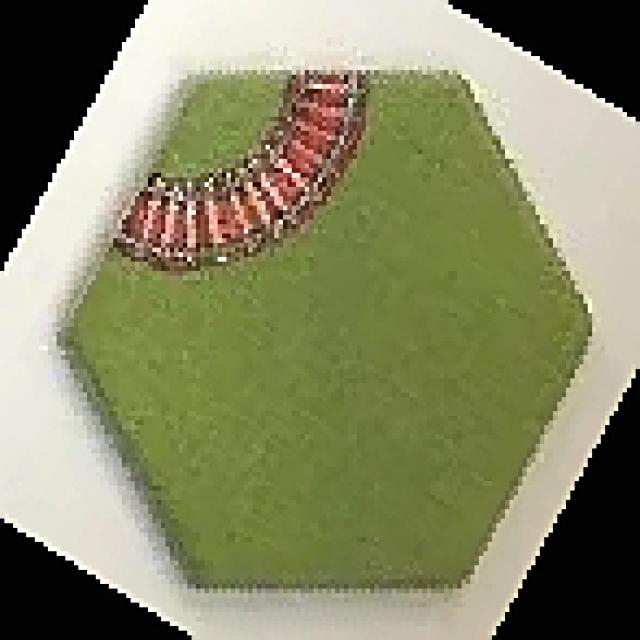1_4: (66, 66, 594, 589)
